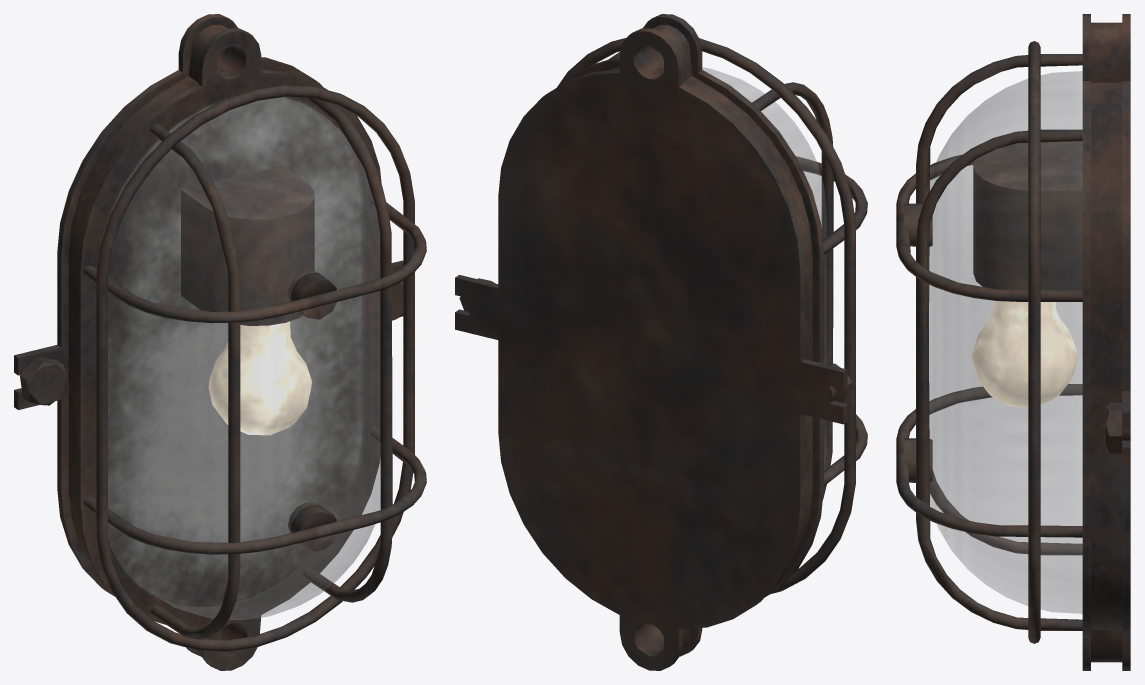
The model's file is industrial_wall_lamp.glb.
The picture shows the model from 3 angles, left to right: view 1: azimuth 30°, elevation 25°; view 2: azimuth 150°, elevation 25°; view 3: azimuth 270°, elevation 25°; orthographic projection.
Visible parts, largest first — view 1: industrial_wall_lamp; view 2: industrial_wall_lamp; view 3: industrial_wall_lamp.
Boxes of the visible parts, x1,y1,x2,y2 form: industrial_wall_lamp: (14,14,426,670); industrial_wall_lamp: (455,14,867,670); industrial_wall_lamp: (896,14,1130,670).
Bounding box in the file's own units: 0.2735 × 0.4299 × 0.1404.
Materials: 2 (2 with a texture image).
